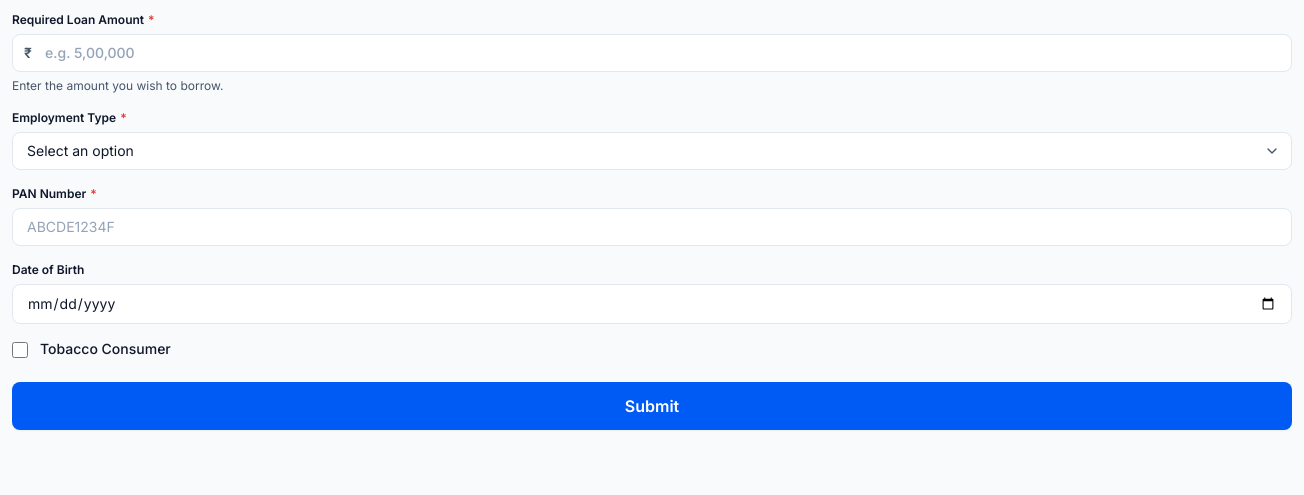
Test: SchemaForm Component › validates min and max on money inputs and formats Indian currency
In the field labelled "Required Loan Amount*": (652, 53) [12,34,1292,72], type "5000"
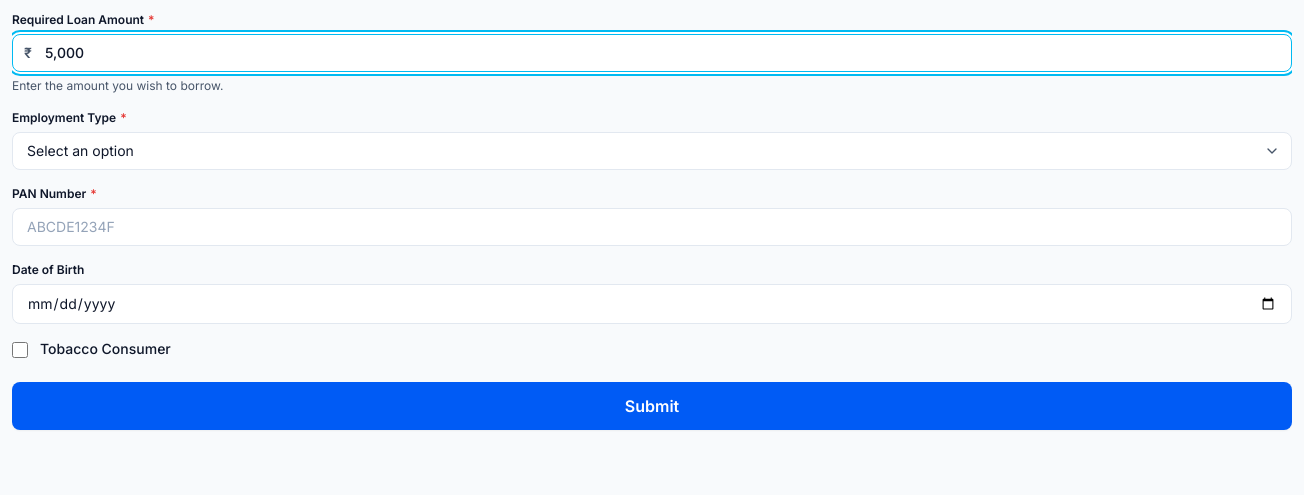
Click the button "Submit": (652, 406) [12,382,1292,430]
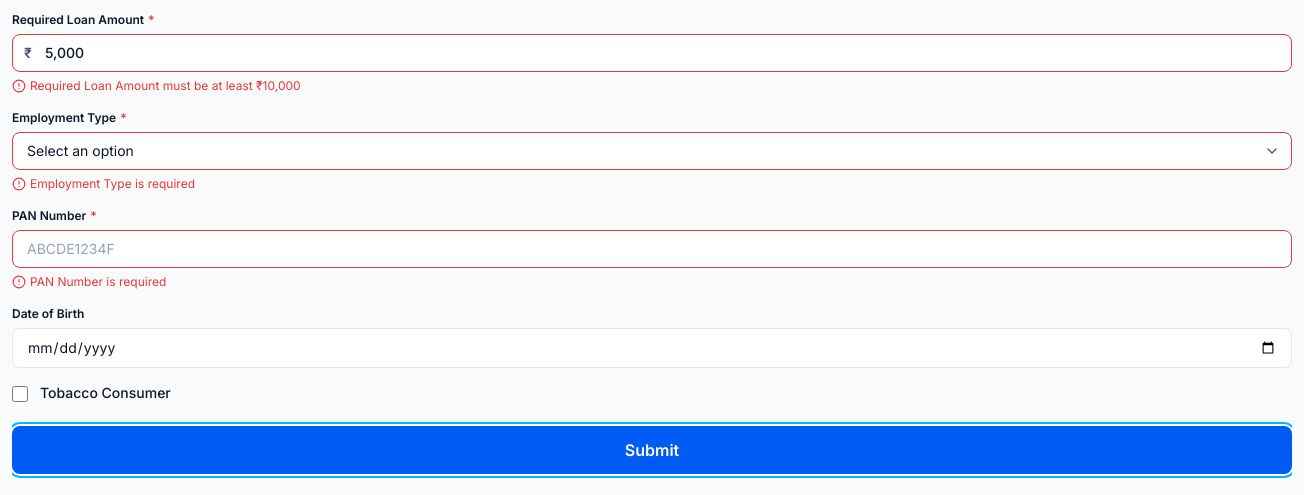
expect the text "Required Loan Amount must be at least ₹10,000" is shown: met, box [30,78,301,94]
